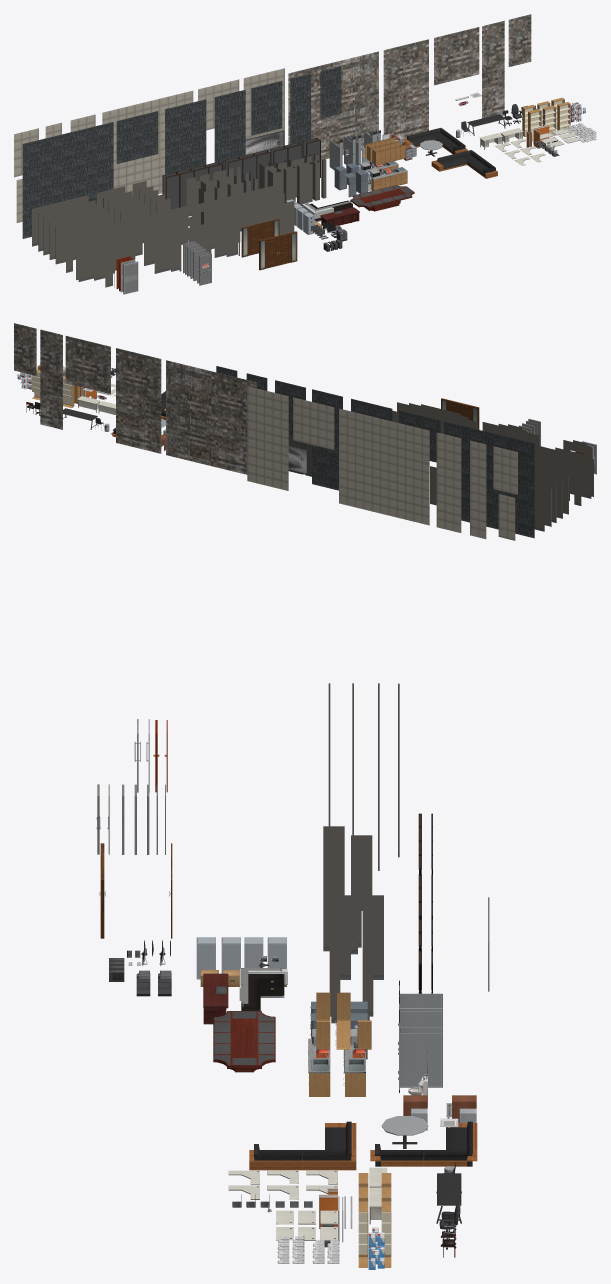
The model's file is non_arranged_assets.fbx.
3 renders of one model, top to bottom at view 1: azimuth 30°, elevation 25°; view 2: azimuth 150°, elevation 25°; view 3: azimuth 270°, elevation 25°, orthographic. The views are drawn at different scales.
Parts seen in each view (by area): view 1: carpet_WHOLE, bathroom_tile_WHOLE, bathroom_tile_HALF, tiled_ceiling_FULL, carpet_half, bathroom_tile_QUARTER, carpet_half_triple_tile_a, bathroom_tile_eighth_a, carpet_quarter_a, carpet_half_triple_tile_b, carpet_half_double_tile_a, bathroom_tile_eighth_b (+43 smaller); view 2: tiled_ceiling_FULL, bathroom_tile_WHOLE, carpet_WHOLE, bathroom_tile_HALF, tiled_ceiling_HALF, tiled_ceiling_triple_tiles_a, bathroom_tile_QUARTER, bathroom_tile_eighth_a, tiled_ceiling_QUARTER, carpet_half_triple_tile_a, tiled_ceiling_dual_tiles_a, bathroom_tile_eighth_b (+18 smaller); view 3: conference_table, side_pannels_HALF_LEFT, reception_table, boss_table, L_couch_B, L_couch_C, drywall_support_a_QUAD, drywall_support_a_TRI, pantry_sink, pantry_sink_NO_BACK, L_couch_C_NO_BACK, drywall_support_a_DOUBLE (+3 smaller).
Boxes of the visible parts, x1,y1,x2,y2 form: carpet_WHOLE: [22, 122, 113, 238]; bathroom_tile_WHOLE: [288, 51, 378, 160]; bathroom_tile_HALF: [383, 39, 428, 138]; tiled_ceiling_FULL: [102, 90, 193, 195]; carpet_half: [165, 99, 206, 174]; bathroom_tile_QUARTER: [434, 27, 479, 85]; carpet_half_triple_tile_a: [214, 89, 245, 170]; bathroom_tile_eighth_a: [482, 20, 504, 118]; carpet_quarter_a: [116, 111, 158, 163]; carpet_half_triple_tile_b: [251, 81, 282, 135]; carpet_half_double_tile_a: [290, 74, 310, 156]; bathroom_tile_eighth_b: [508, 14, 531, 66]; tiled_ceiling_FULL: [339, 408, 429, 525]; bathroom_tile_WHOLE: [166, 360, 256, 474]; carpet_WHOLE: [443, 421, 534, 538]; bathroom_tile_HALF: [116, 348, 161, 453]; tiled_ceiling_HALF: [247, 386, 288, 490]; tiled_ceiling_triple_tiles_a: [436, 432, 461, 532]; bathroom_tile_QUARTER: [65, 336, 110, 393]; bathroom_tile_eighth_a: [40, 329, 62, 429]; tiled_ceiling_QUARTER: [293, 397, 334, 449]; carpet_half_triple_tile_a: [312, 389, 342, 490]; tiled_ceiling_dual_tiles_a: [470, 440, 486, 538]; bathroom_tile_eighth_b: [14, 323, 36, 375]; conference_table: [213, 1011, 275, 1072]; side_pannels_HALF_LEFT: [398, 1015, 442, 1092]; reception_table: [239, 968, 287, 1010]; boss_table: [203, 973, 228, 1024]; L_couch_B: [302, 1144, 356, 1170]; L_couch_C: [249, 1144, 302, 1170]; drywall_support_a_QUAD: [329, 895, 350, 979]; drywall_support_a_TRI: [362, 895, 383, 979]; pantry_sink: [308, 1038, 330, 1096]; pantry_sink_NO_BACK: [343, 1045, 365, 1096]; L_couch_C_NO_BACK: [370, 1144, 423, 1166]; drywall_support_a_DOUBLE: [323, 826, 344, 895].
Bounding box in the file's own units: 53.51 × 9.01 × 17.87.
